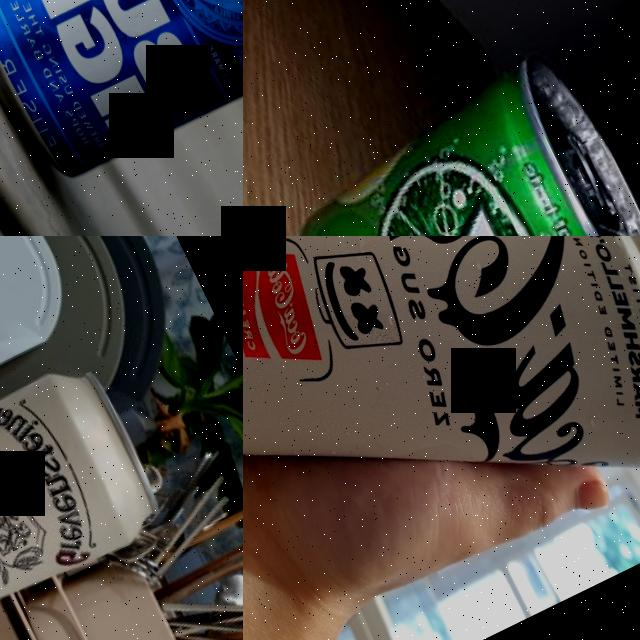can: (243, 236, 640, 640), (243, 40, 640, 236), (0, 351, 171, 640), (0, 0, 243, 200)
